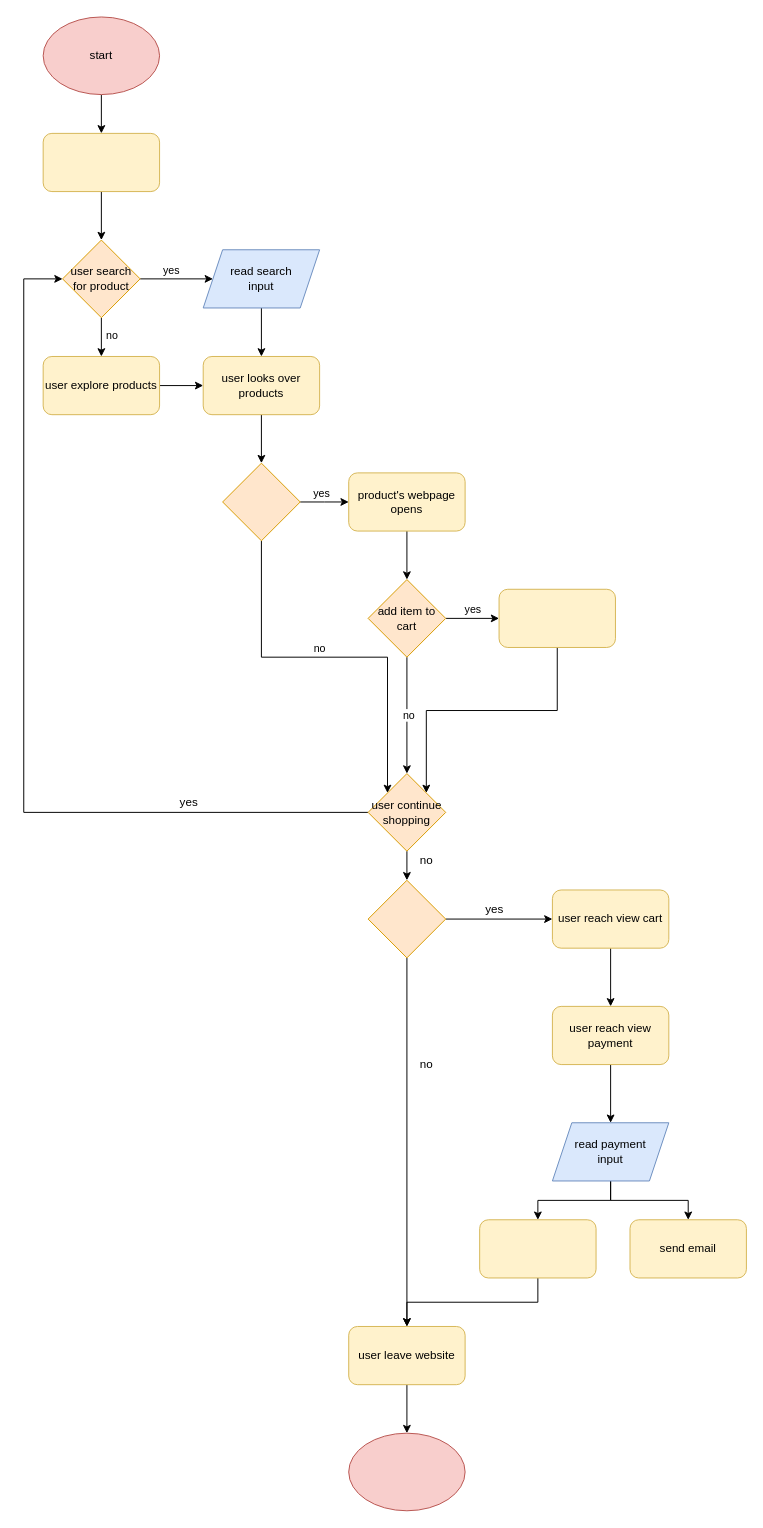
This 763x1528 diagram has some shape labels left out. Each missing label, with the box of its shape:
exit: (348, 1432, 465, 1511)
order confirmation: (479, 1219, 596, 1278)
show added to cart confirmation: (498, 588, 615, 647)
user checkout: (367, 879, 446, 958)
user enters website: (42, 132, 160, 192)
user view product: (222, 462, 300, 541)
